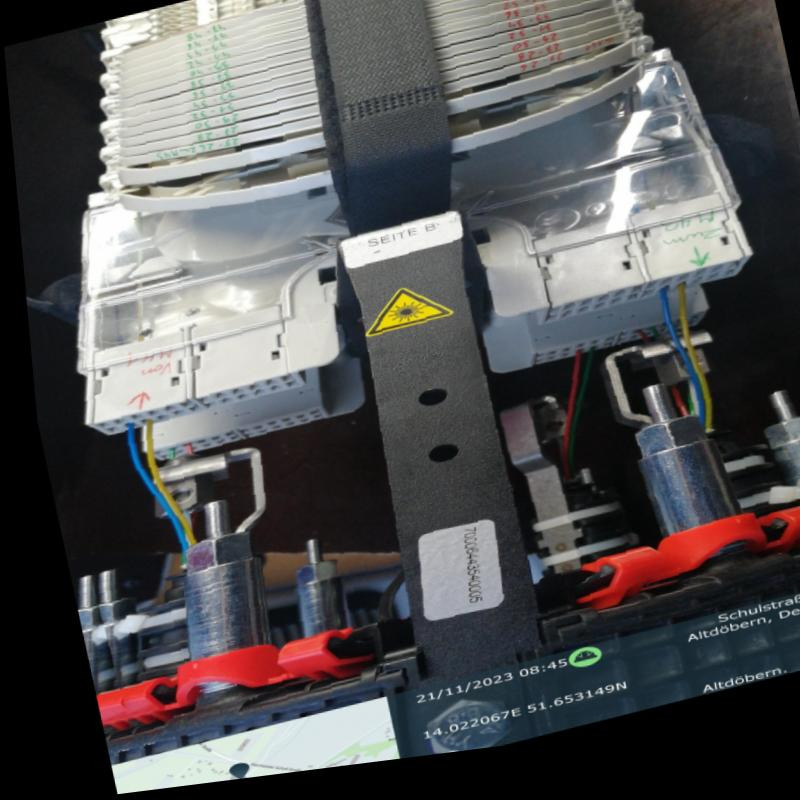NT-Muffen: (46, 0, 800, 742)
